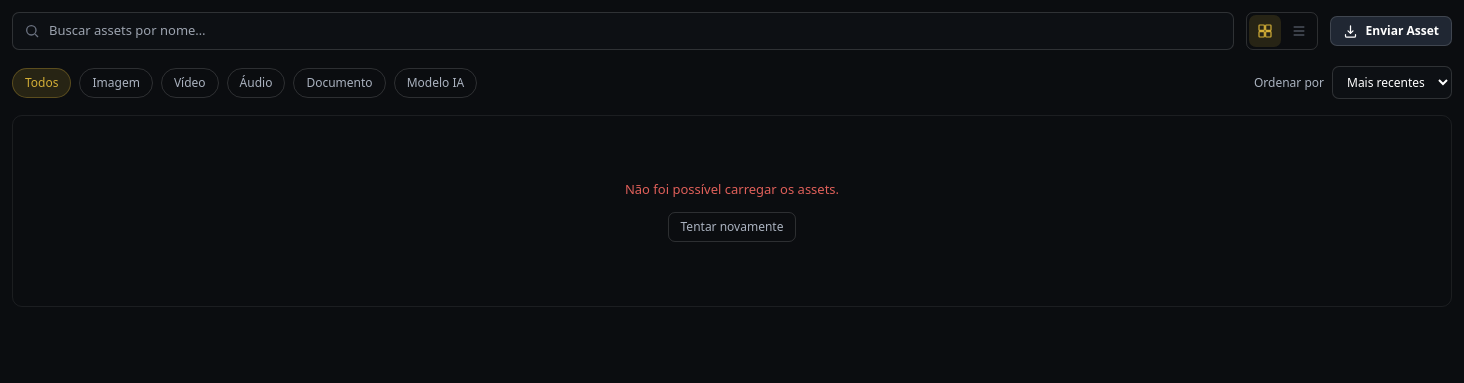
Test case: AssetLibrary › mostra erro com botão de tentar novamente quando a listagem falha
expect the element with test id "asset-library-error" is shown: met, box x1=12 y1=115 x2=1452 y2=306
Click the button "Tentar novamente": x=732, y=226 x1=668 y1=212 x2=796 y2=242
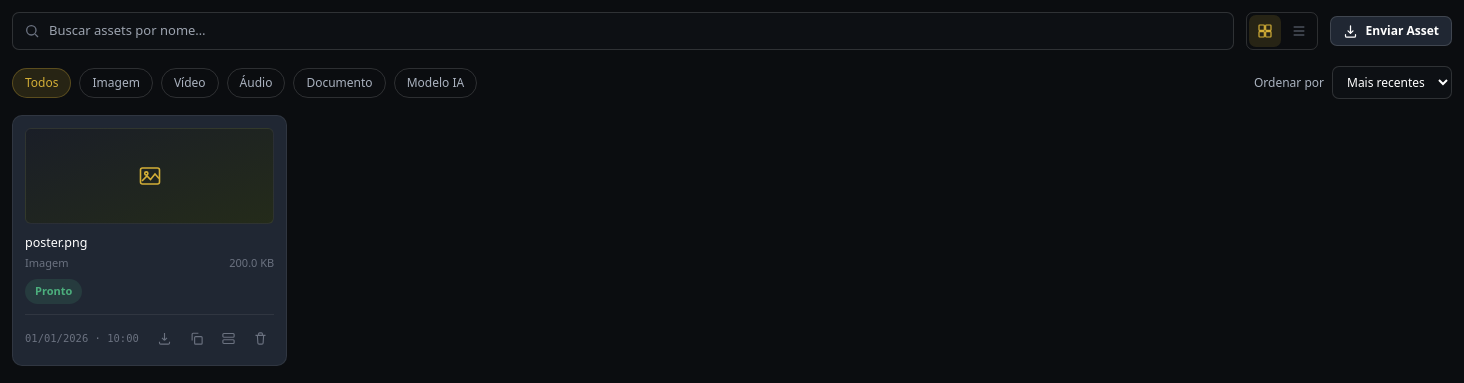
expect the text "poster.png" is shown: met, box x1=25 y1=234 x2=87 y2=251
